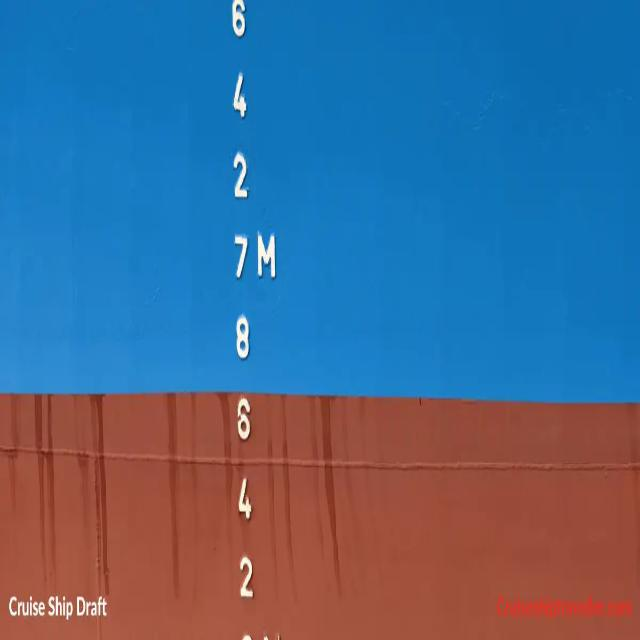Ship Draft Marks: (257, 234, 277, 280), (233, 153, 249, 199), (237, 396, 251, 441), (233, 72, 247, 117), (237, 315, 250, 360), (239, 477, 252, 520), (240, 556, 253, 598), (235, 236, 248, 278), (232, 0, 246, 39)
